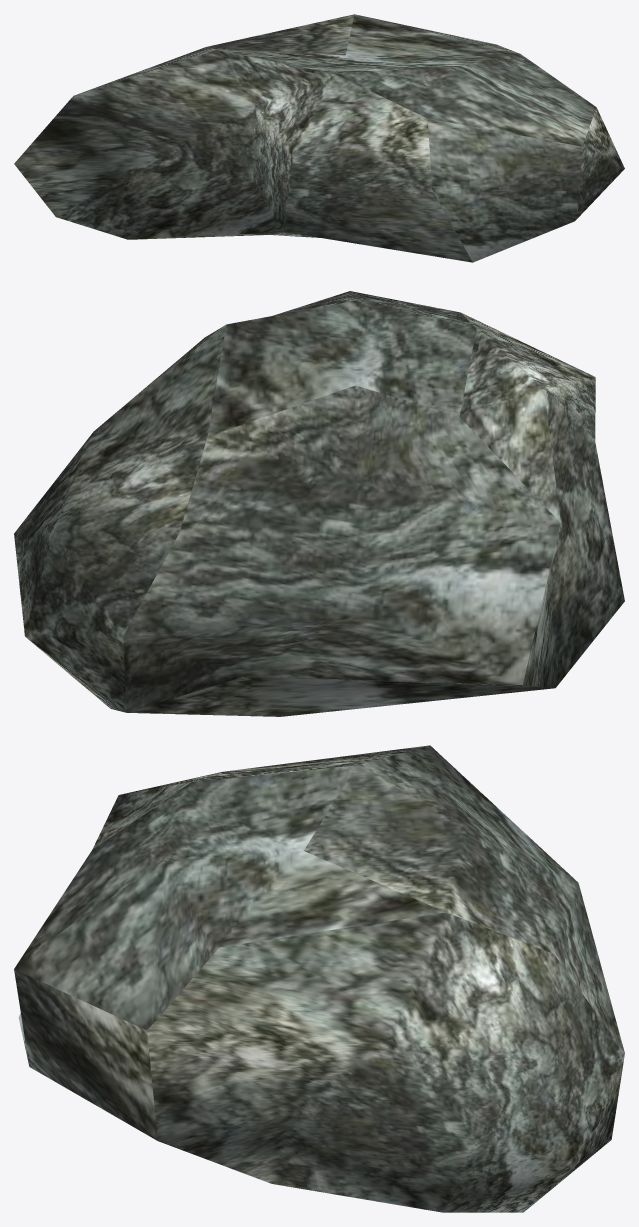
File: stone3.dae
3 views of the same model, one above another, from view 1: azimuth 30°, elevation 25°; view 2: azimuth 150°, elevation 25°; view 3: azimuth 270°, elevation 25° (orthographic). The views are drawn at different scales.
Parts seen in each view (by area): view 1: Sphere; view 2: Sphere; view 3: Sphere.
Part boxes in pixels (<box>): Sphere: <box>14,14,624,262</box>; Sphere: <box>14,291,624,716</box>; Sphere: <box>14,745,624,1212</box>.
Size of the model in its own units: 2.52 by 2.34 by 1.38.
Materials: 1 (1 with a texture image).
